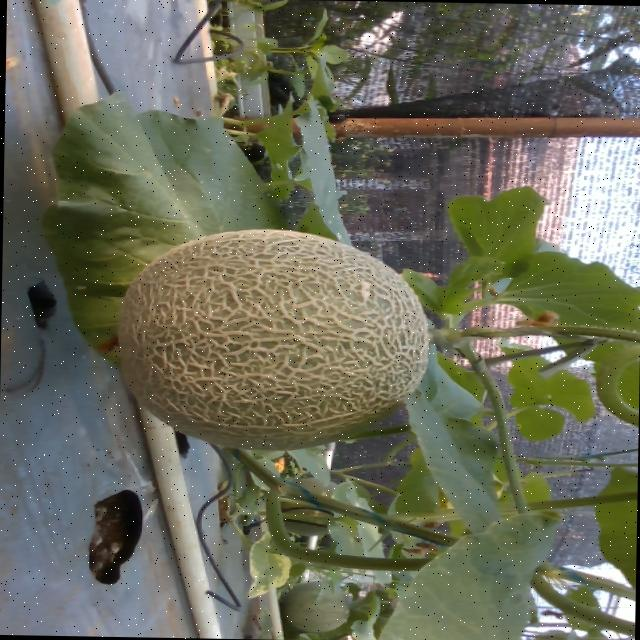melon: (116, 229, 428, 451)
